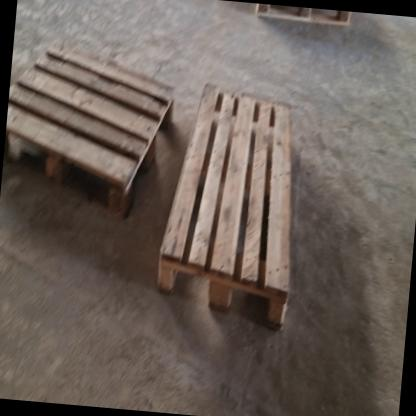BoxFace: (156, 83, 290, 333), (3, 36, 176, 225)
